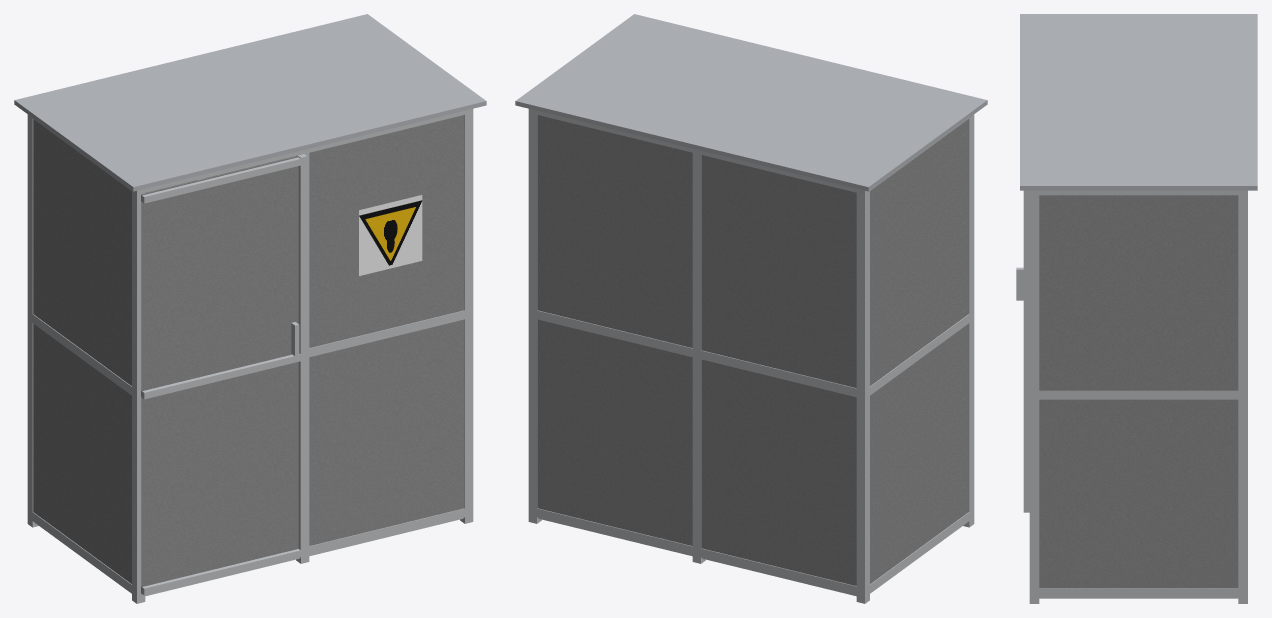
The model's file is gas_cage_stocked.glb.
The picture shows the model from 3 angles, left to right: view 1: azimuth 30°, elevation 25°; view 2: azimuth 150°, elevation 25°; view 3: azimuth 270°, elevation 25°; orthographic projection.
Visible parts, largest first — view 1: door mesh, panel front, roof, panel side, warning sign, post, post.004, door stile, post.001, rail, rail.004, door rail.002 (+6 smaller); view 2: panel back, roof, panel side, post.001, post.005, post.003, rail.001, rail.005, post, rail.009, rail.002, rail.006; view 3: panel side.001, roof, post.004, post.005, door stile, rail.007, rail.003, rail.011, floor.
Boxes of the visible parts, x1,y1,x2,y2 form: door mesh: (141,155,301,594); panel front: (309,115,464,545); roof: (14,14,486,191); panel side: (33,119,131,583); warning sign: (359,195,422,275); post: (132,189,145,603); post.004: (460,109,473,523); door stile: (297,154,306,557); post.001: (27,115,38,527); rail: (143,507,473,595); rail.004: (139,310,473,393); door rail.002: (141,157,303,203); panel back: (537,115,856,585); roof: (515,14,987,191); panel side: (870,119,968,583); post.001: (856,189,869,603); post.005: (528,109,541,523); post.003: (692,149,705,563); rail.001: (528,506,869,597); rail.005: (528,310,866,398); post: (963,115,974,527); rail.009: (528,109,867,193); rail.002: (864,510,974,596); rail.006: (858,314,969,398); panel side.001: (1039,195,1238,588); roof: (1020,14,1257,190); post.004: (1029,190,1039,603); post.005: (1238,190,1247,603); door stile: (1023,190,1029,512); rail.007: (1030,390,1247,399); rail.003: (1039,588,1238,597); rail.011: (1034,190,1247,195); floor: (1039,597,1238,598).
Bounding box in the file's own units: 1.68 × 1.92 × 0.995.
40 materials, 2 textured.
